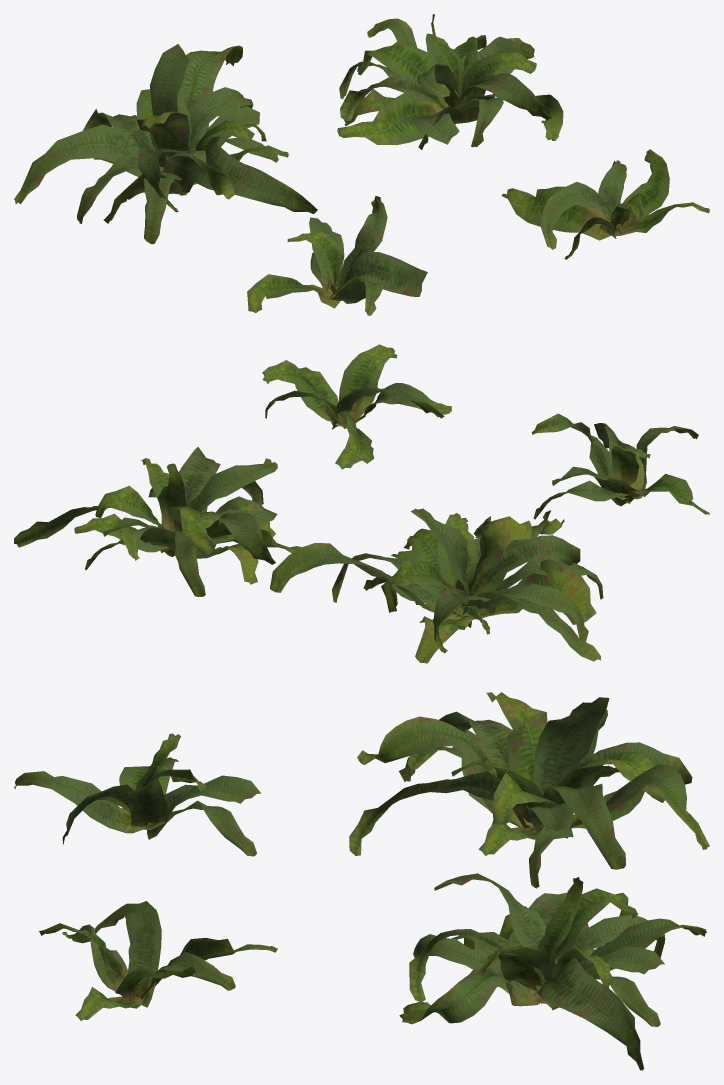
The model's file is fern_02.glb.
3 renders of one model, top to bottom at view 1: azimuth 30°, elevation 25°; view 2: azimuth 150°, elevation 25°; view 3: azimuth 270°, elevation 25°, orthographic. The views are drawn at different scales.
Parts seen in each view (by area): view 1: fern_02_b; view 2: fern_02_b; view 3: fern_02_b.
Part boxes in pixels (bbox=[...]): fern_02_b: bbox=[14, 14, 709, 315]; fern_02_b: bbox=[14, 344, 709, 663]; fern_02_b: bbox=[14, 692, 709, 1070].
Size of the model in its own units: 1.97 by 0.4277 by 1.72.
Materials: 1 (1 with a texture image).
